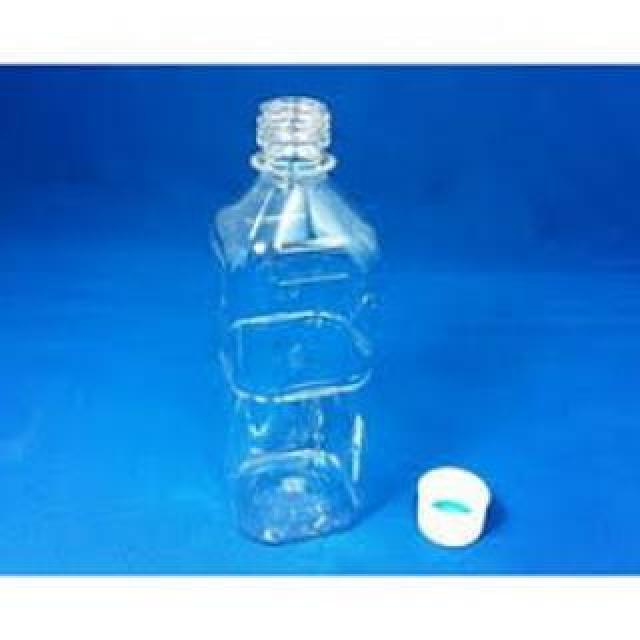Pet_Bottle: (204, 87, 380, 547)
